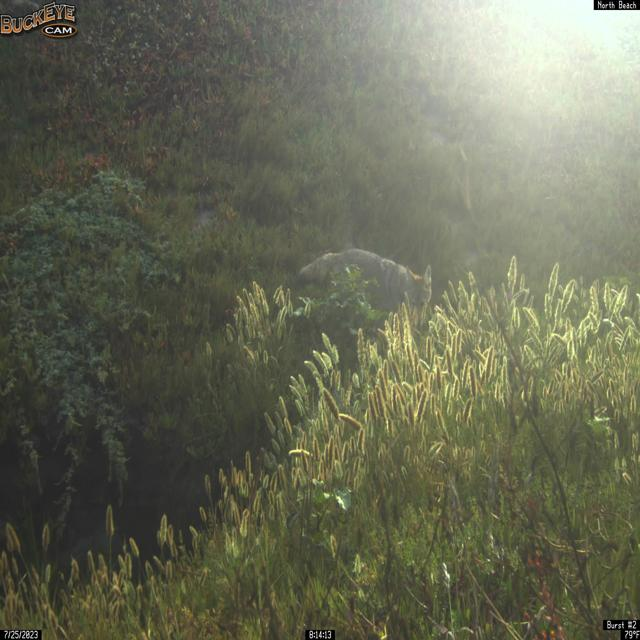coyote: (295, 248, 432, 331)
